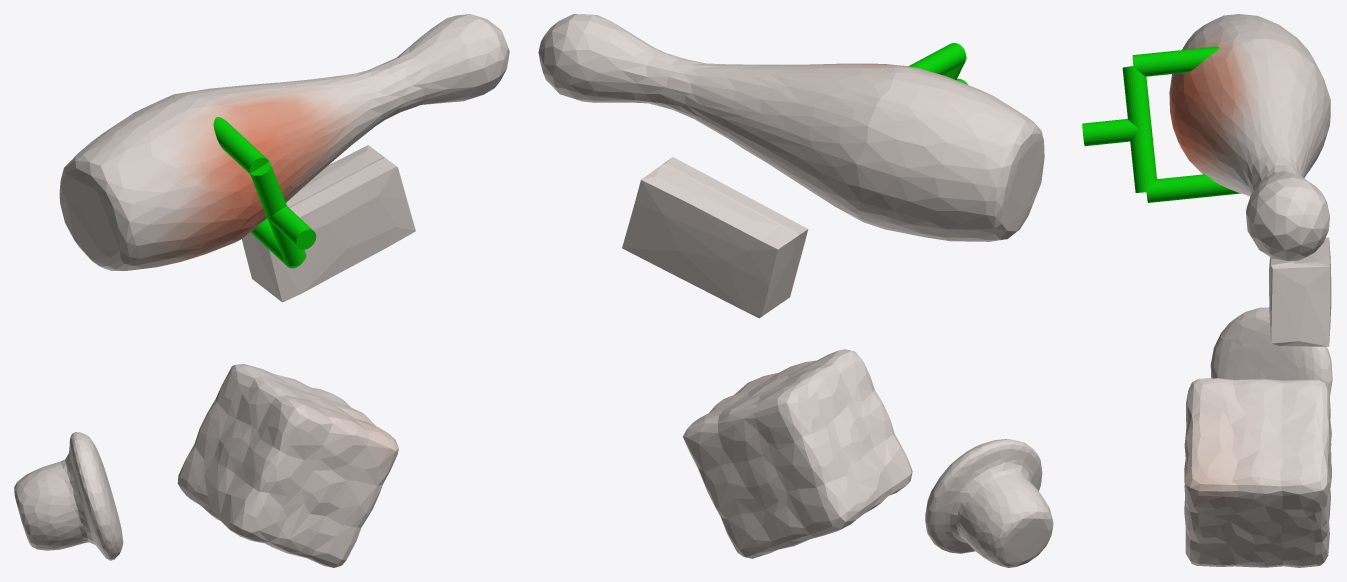
The model's file is round_000_trial_000.obj.
The picture shows the model from 3 angles, left to right: view 1: azimuth 30°, elevation 25°; view 2: azimuth 150°, elevation 25°; view 3: azimuth 270°, elevation 25°; orthographic projection. The views are drawn at different scales.
Parts seen in each view (by area): view 1: geometry_0, geometry_1; view 2: geometry_0, geometry_1; view 3: geometry_0, geometry_1.
Boxes of the visible parts, bbox=[...] form: geometry_0: bbox=[14, 14, 509, 567]; geometry_1: bbox=[213, 117, 316, 268]; geometry_0: bbox=[538, 14, 1053, 567]; geometry_1: bbox=[908, 43, 967, 84]; geometry_0: bbox=[1169, 14, 1332, 567]; geometry_1: bbox=[1082, 46, 1240, 202].
Size of the model in its own units: 0.2446 by 0.2285 by 0.1095.
